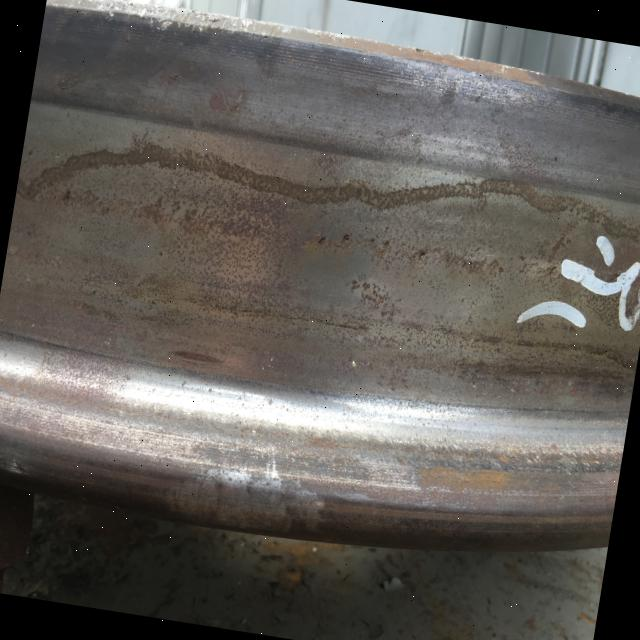Peeling: (343, 233, 353, 247), (64, 193, 74, 206), (318, 236, 328, 247), (419, 251, 428, 263)
